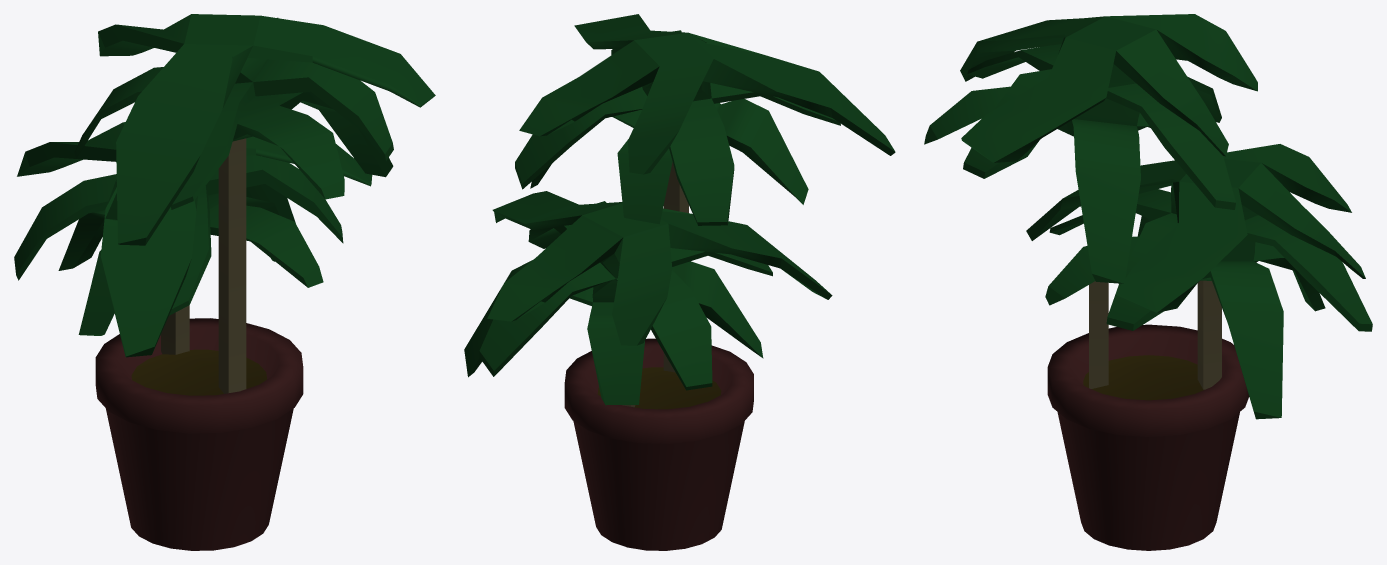
The model's file is Plant2.fbx.
3 views of the same model, side by side, from view 1: azimuth 30°, elevation 25°; view 2: azimuth 150°, elevation 25°; view 3: azimuth 270°, elevation 25° (orthographic). The views are drawn at different scales.
Visible parts, largest first — view 1: Plant1, Pot, Plant2; view 2: Plant1, Plant2, Pot; view 3: Plant1, Plant2, Pot.
Boxes of the visible parts, x1,y1,x2,y2 form: Plant1: (74,14,435,393); Pot: (95,318,303,550); Plant2: (14,122,372,357); Plant1: (515,14,895,372); Plant2: (464,191,832,407); Pot: (564,338,753,550); Plant1: (924,14,1257,388); Plant2: (1026,144,1372,419); Pot: (1047,324,1249,550).
Bounding box in the file's own units: 7.93 × 11.07 × 9.14.
